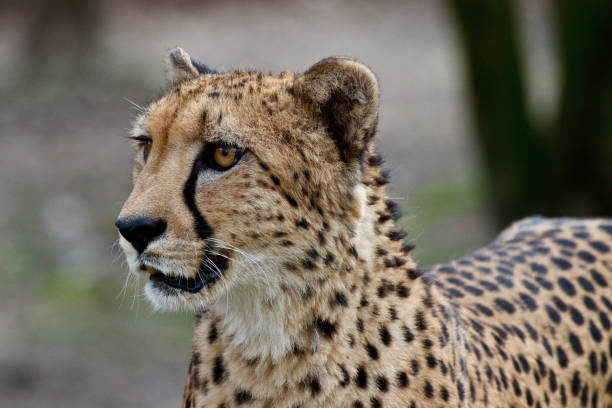cheetah: (91, 40, 405, 329)
